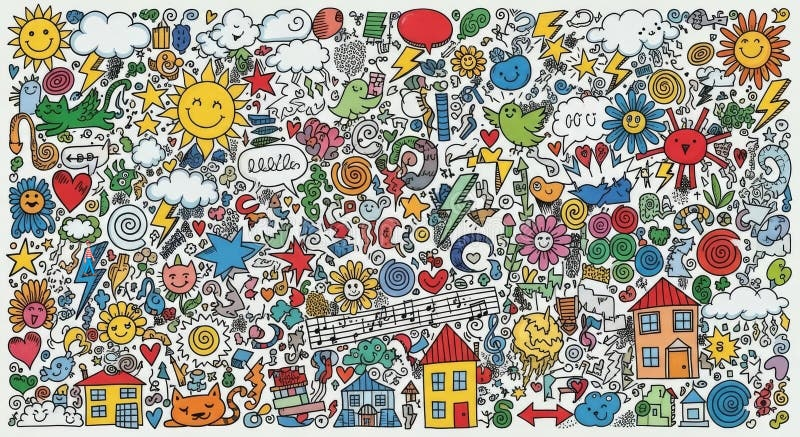waldo: (83, 240, 98, 276)
